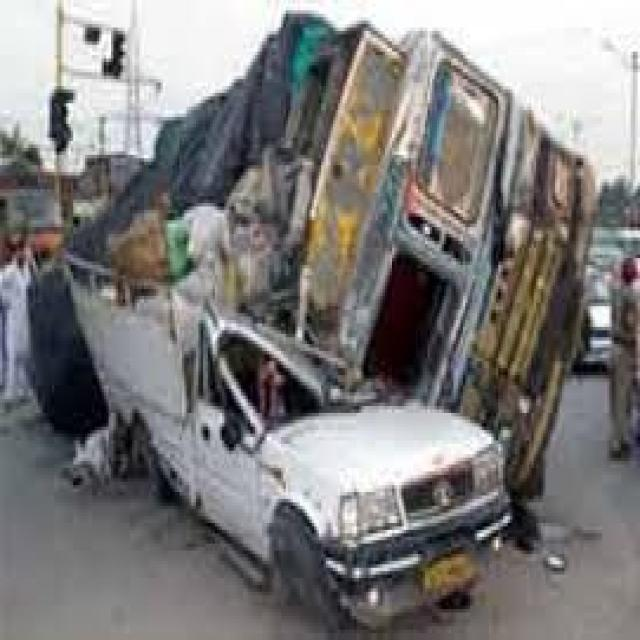multiple_accident: (39, 71, 574, 611)
